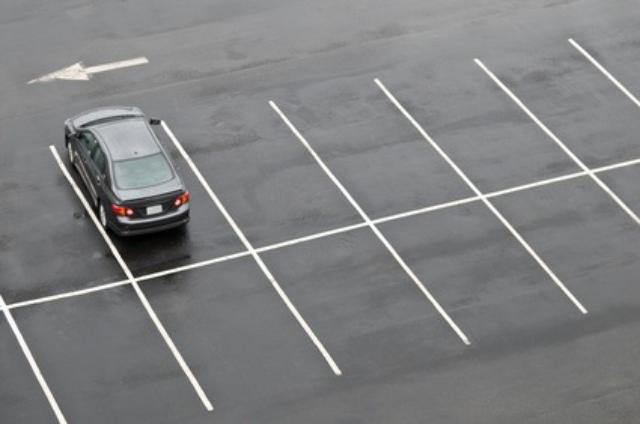Empty: (130, 252, 338, 411), (252, 226, 468, 376), (370, 199, 588, 344), (161, 104, 368, 251), (276, 80, 485, 223), (376, 59, 585, 198), (477, 38, 640, 174)
Filled: (48, 121, 252, 281)
